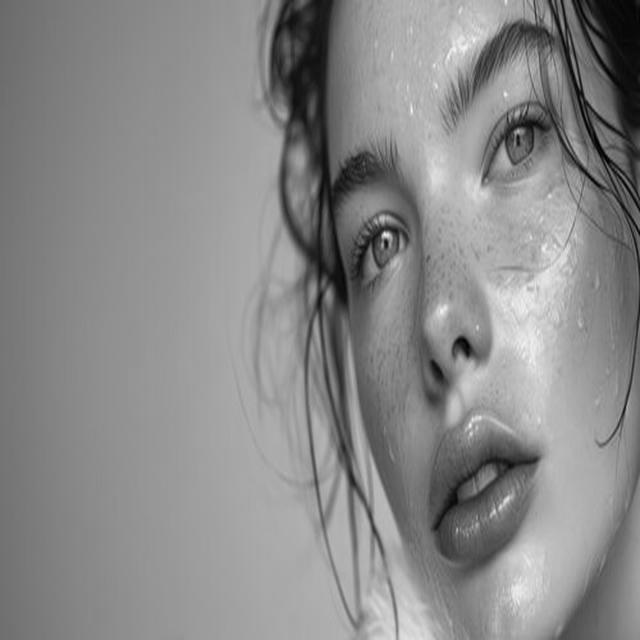Neutral: (327, 1, 640, 640)
